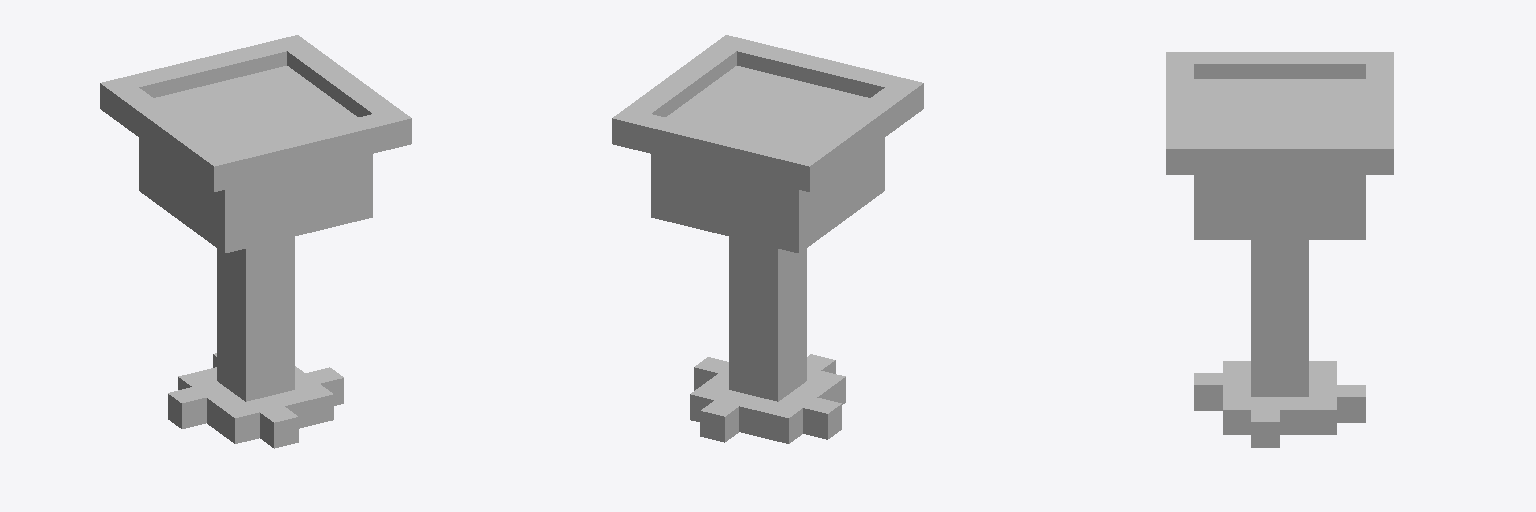
The model's file is mcl_tea_cup_jungle.obj.
The picture shows the model from 3 angles: view 1: azimuth 30°, elevation 25°; view 2: azimuth 150°, elevation 25°; view 3: azimuth 270°, elevation 25°; orthographic projection.
Visible parts, largest first — view 1: Cube_Cube.002, Cube.002_Cube.003; view 2: Cube_Cube.002, Cube.002_Cube.003; view 3: Cube_Cube.002, Cube.002_Cube.003.
Part boxes in pixels (x1,y1,x2,y2): Cube_Cube.002: (100,35,411,448); Cube.002_Cube.003: (154,66,357,149); Cube_Cube.002: (612,35,923,443); Cube.002_Cube.003: (666,66,869,149); Cube_Cube.002: (1166,52,1393,447); Cube.002_Cube.003: (1194,79,1365,136).
Bounding box in the file's own units: 0.5 × 0.75 × 0.5.